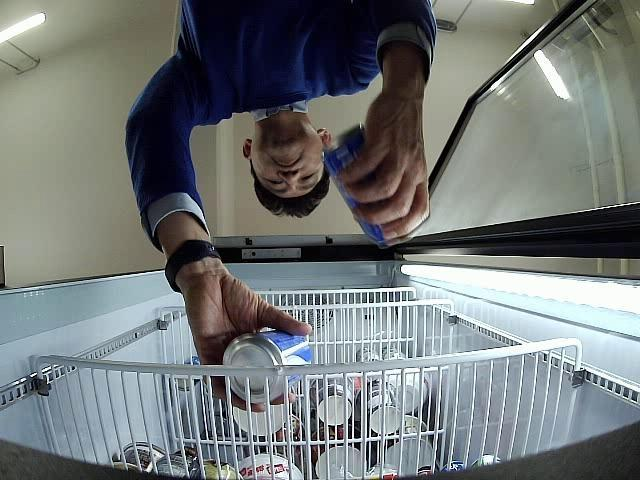13_pocariSweat: (322, 124, 413, 245), (222, 332, 312, 404)
